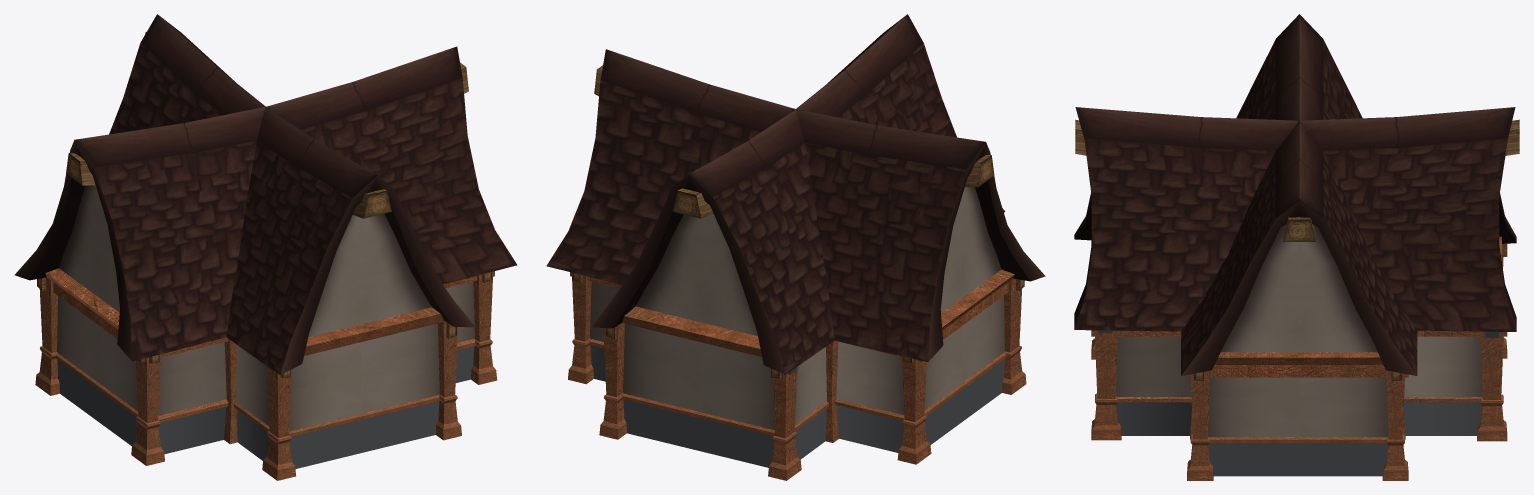
Rendered from fanasty_mod_X_house.fbx.
3 views of the same model, side by side, from view 1: azimuth 30°, elevation 25°; view 2: azimuth 150°, elevation 25°; view 3: azimuth 270°, elevation 25° (orthographic).
Visible parts, largest first — view 1: X_house; view 2: X_house; view 3: X_house.
Boxes of the visible parts, x1,y1,x2,y2 form: X_house: [14, 14, 517, 480]; X_house: [546, 14, 1045, 480]; X_house: [1074, 14, 1519, 480].
Size of the model in its own units: 12.64 by 9.01 by 12.61.
